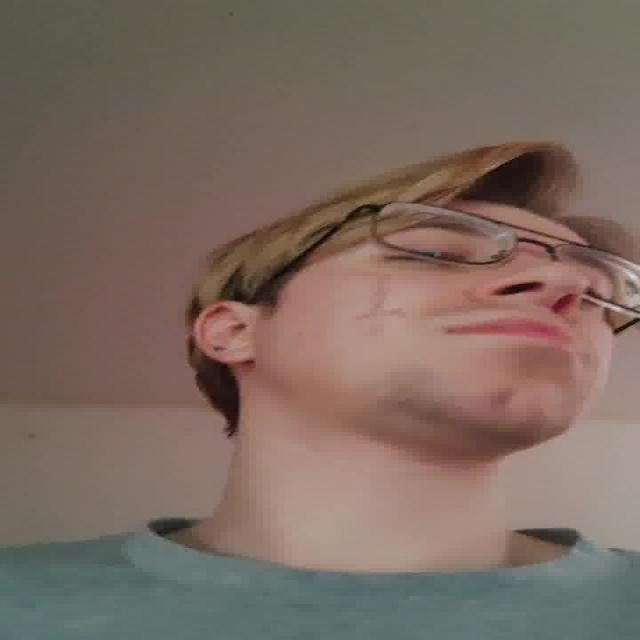earlobe: (195, 303, 261, 363)
